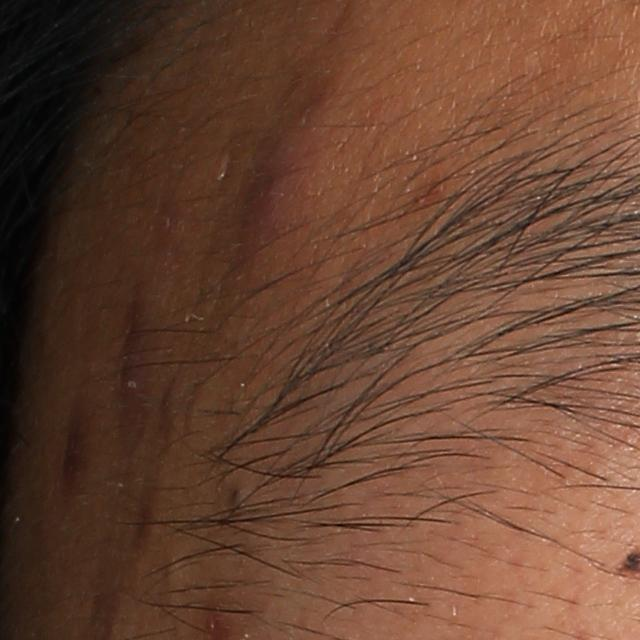nodule: (232, 73, 339, 269)
